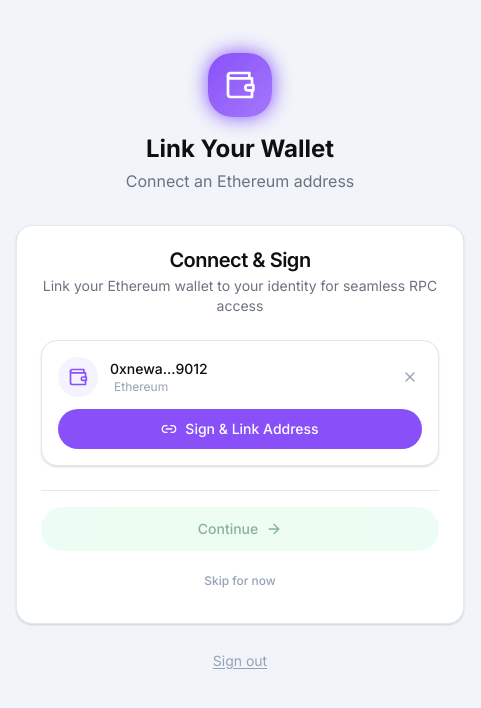
Scenario: LinkWalletPage › Link Wallet Flow › should complete link flow successfully
Click the button "Sign & Link Address" at (240, 428), box [58,408,422,448]
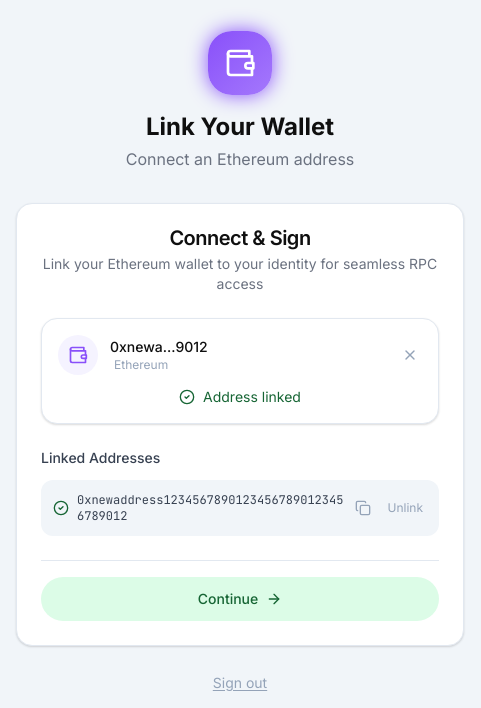
Result: the text "Address linked" is shown at [179,388,301,404]
